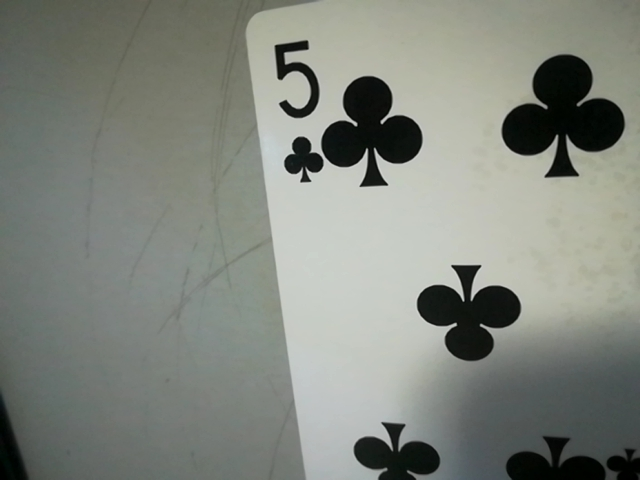mh 5: (261, 28, 326, 193)
